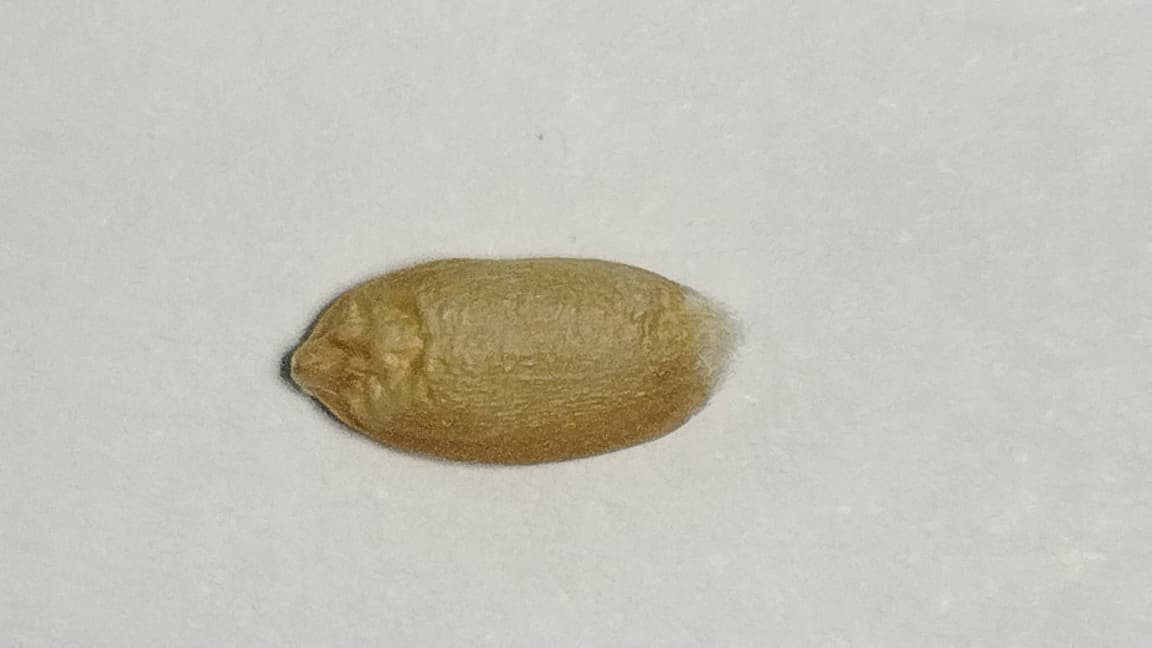healthy: (286, 256, 742, 468)
